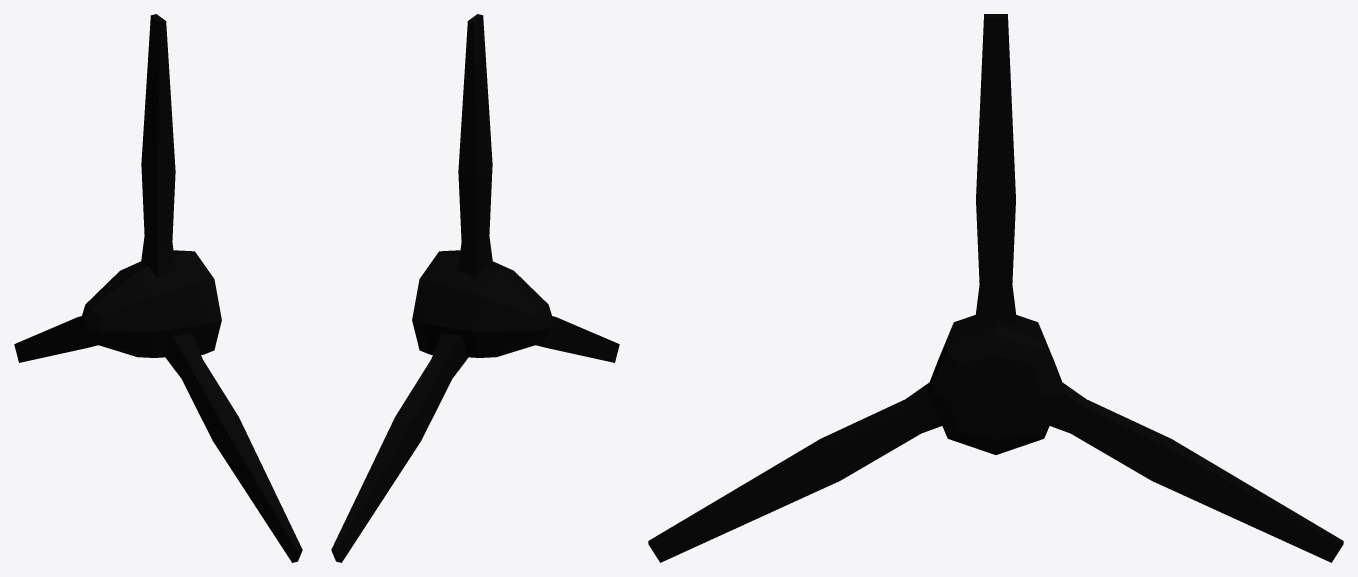
Rendered from Propeller.obj.
3 renders of one model, left to right at view 1: azimuth 30°, elevation 25°; view 2: azimuth 150°, elevation 25°; view 3: azimuth 270°, elevation 25°, orthographic. The views are drawn at different scales.
Visible parts, largest first — view 1: Propeller_Cube.003; view 2: Propeller_Cube.003; view 3: Propeller_Cube.003.
Part boxes in pixels (left/top/right/bottom): Propeller_Cube.003: left=14, top=14, right=302, bottom=562; Propeller_Cube.003: left=331, top=14, right=619, bottom=562; Propeller_Cube.003: left=648, top=14, right=1343, bottom=562.
Size of the model in its own units: 0.138 by 0.4919 by 0.568.
